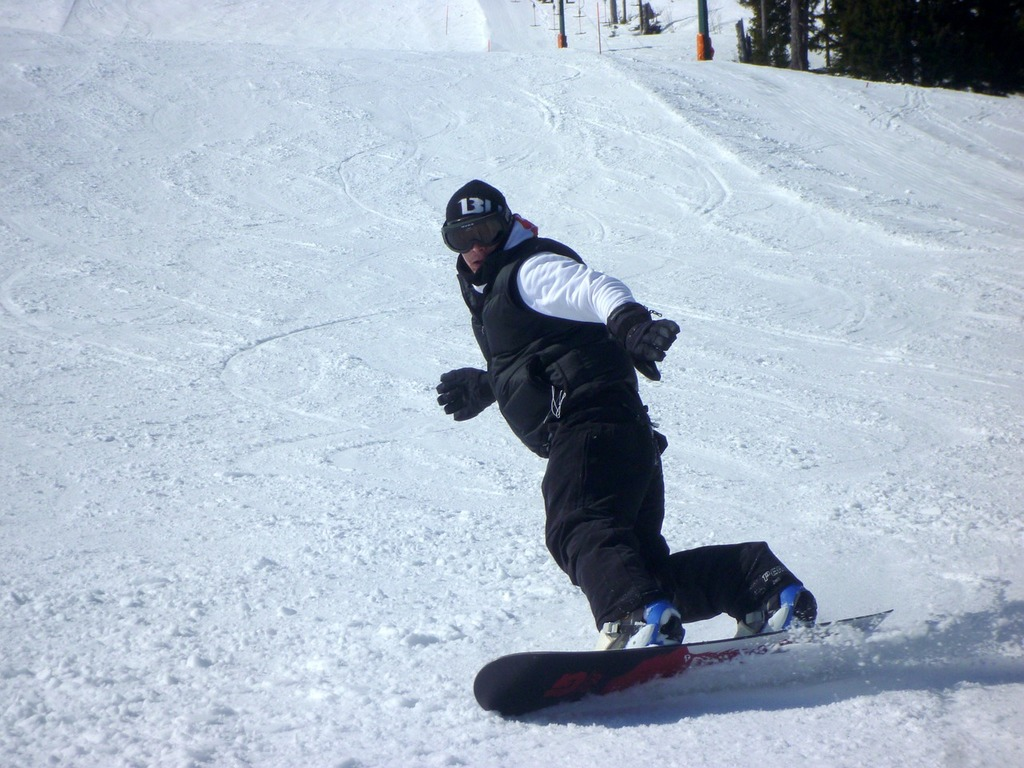snowboarder: (432, 178, 898, 716)
